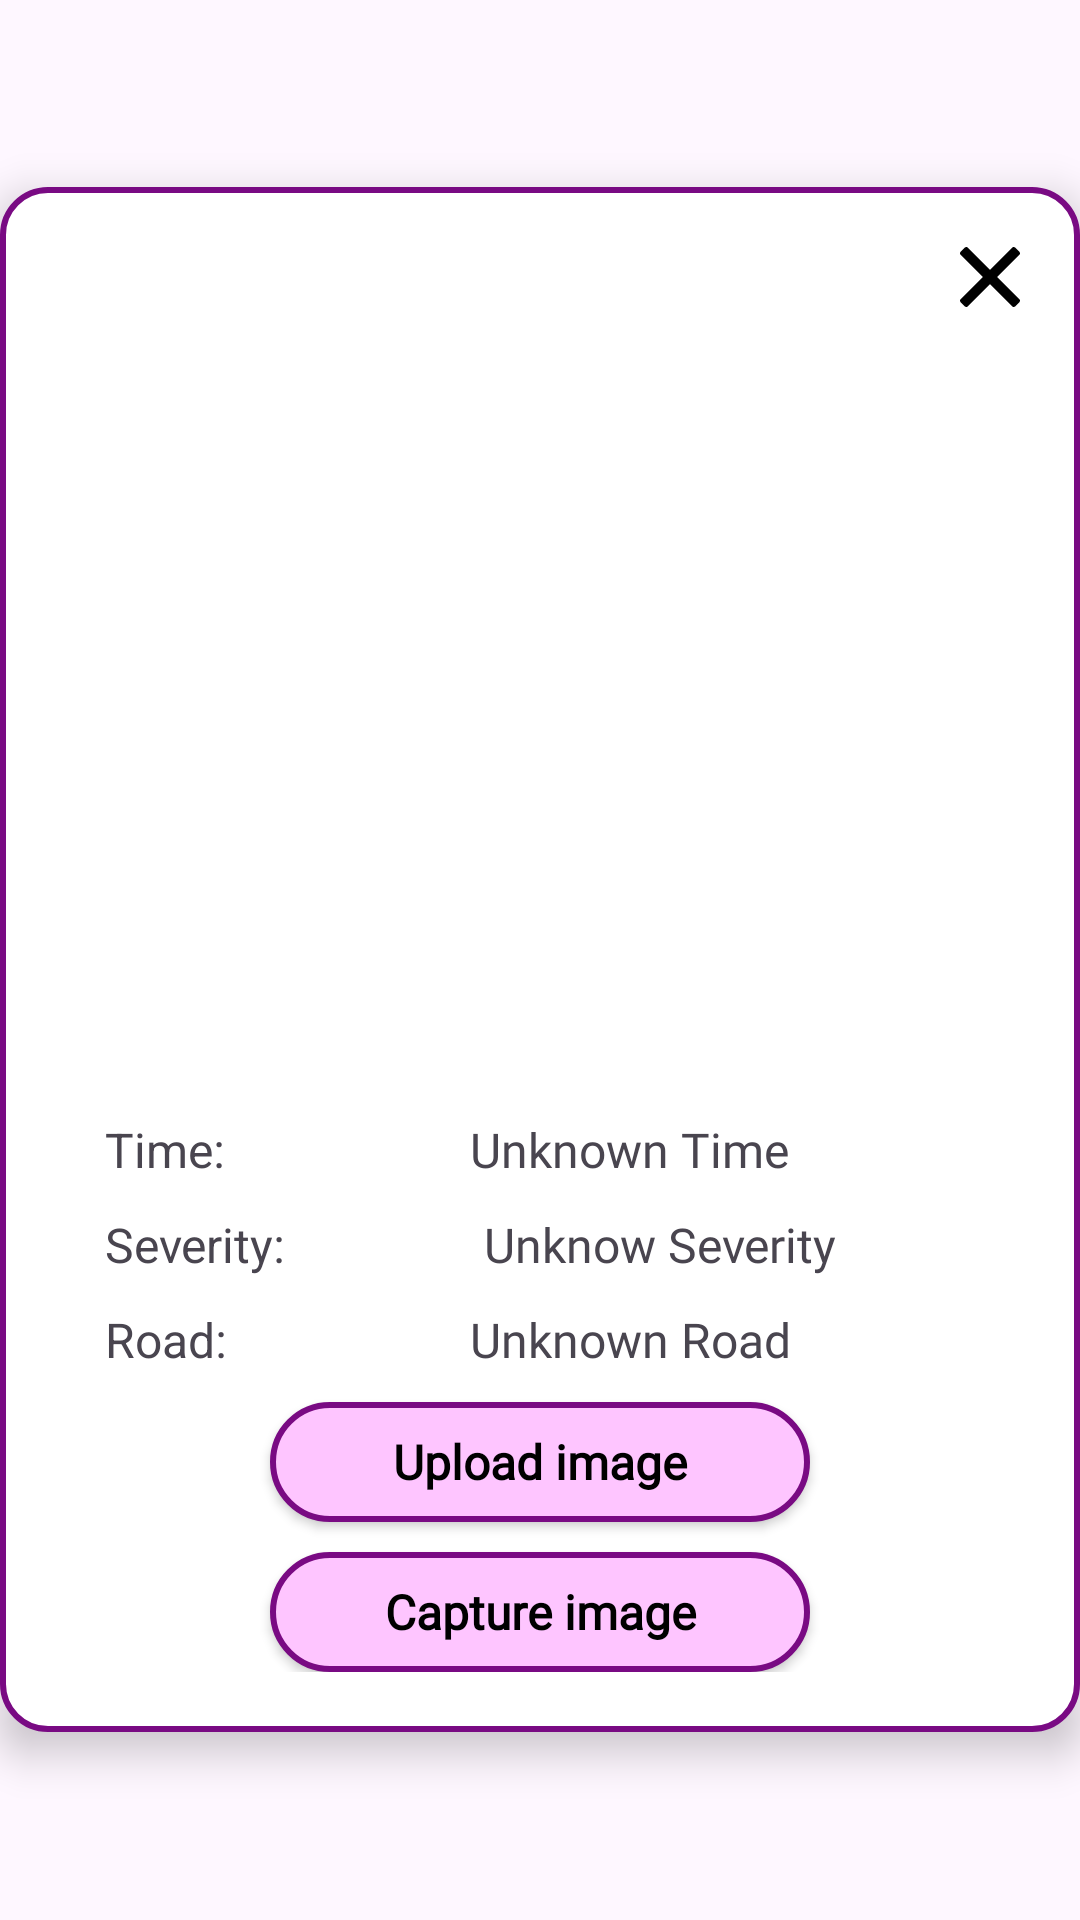

Point at icon controls on the screen. Image size 1080 x 1920, points as [x,y].
quit: [990,277]
